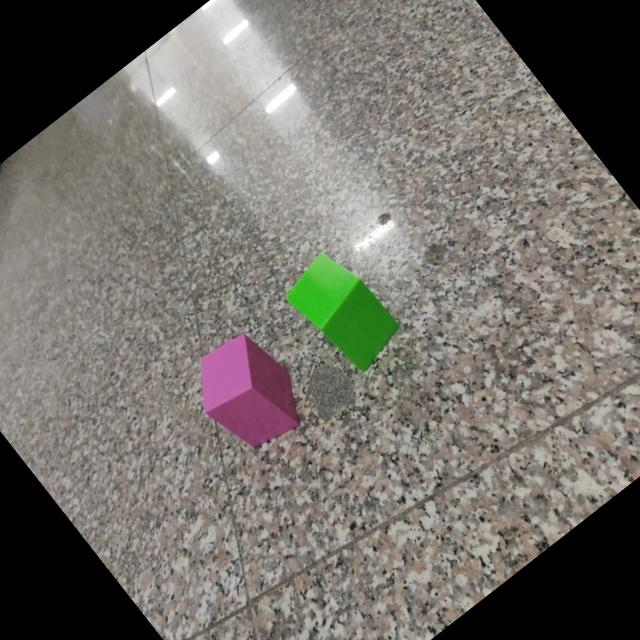green: (285, 254, 401, 372)
pink: (202, 334, 303, 449)
